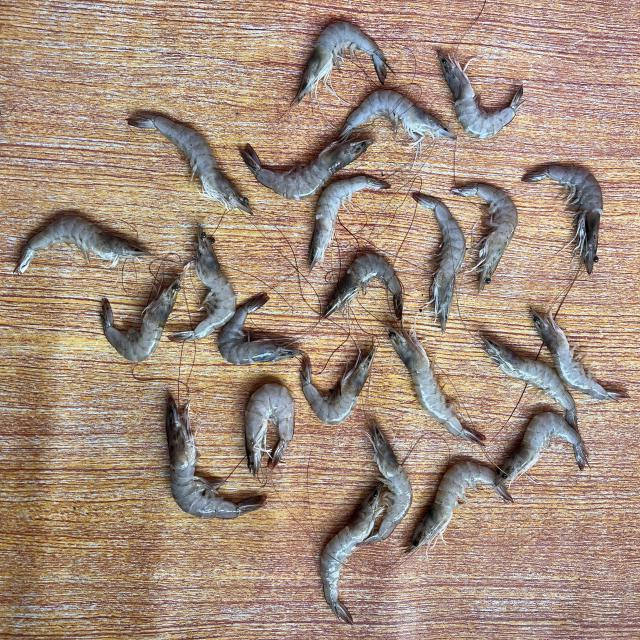shrimp: (127, 113, 252, 214), (165, 396, 265, 519), (386, 325, 485, 446), (406, 462, 515, 554), (481, 334, 580, 433), (531, 308, 629, 400), (523, 164, 604, 274), (321, 483, 383, 625), (240, 139, 373, 199), (13, 216, 150, 274), (168, 225, 236, 341), (293, 21, 390, 102), (309, 175, 390, 270), (438, 50, 524, 138), (413, 192, 466, 332), (340, 89, 457, 152), (452, 183, 518, 290), (100, 277, 180, 362), (497, 412, 588, 485), (360, 421, 413, 546), (217, 293, 302, 365), (300, 346, 376, 425), (322, 253, 403, 320), (245, 383, 294, 475)
